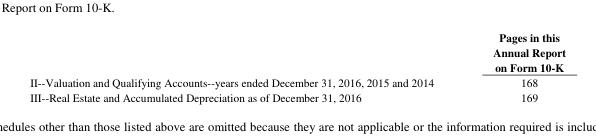table: (29, 29, 564, 104)
table column: (29, 29, 462, 104), (462, 29, 564, 104)
table column header: (29, 29, 564, 74)
table row: (29, 29, 564, 74), (29, 74, 564, 89), (29, 89, 564, 104)
